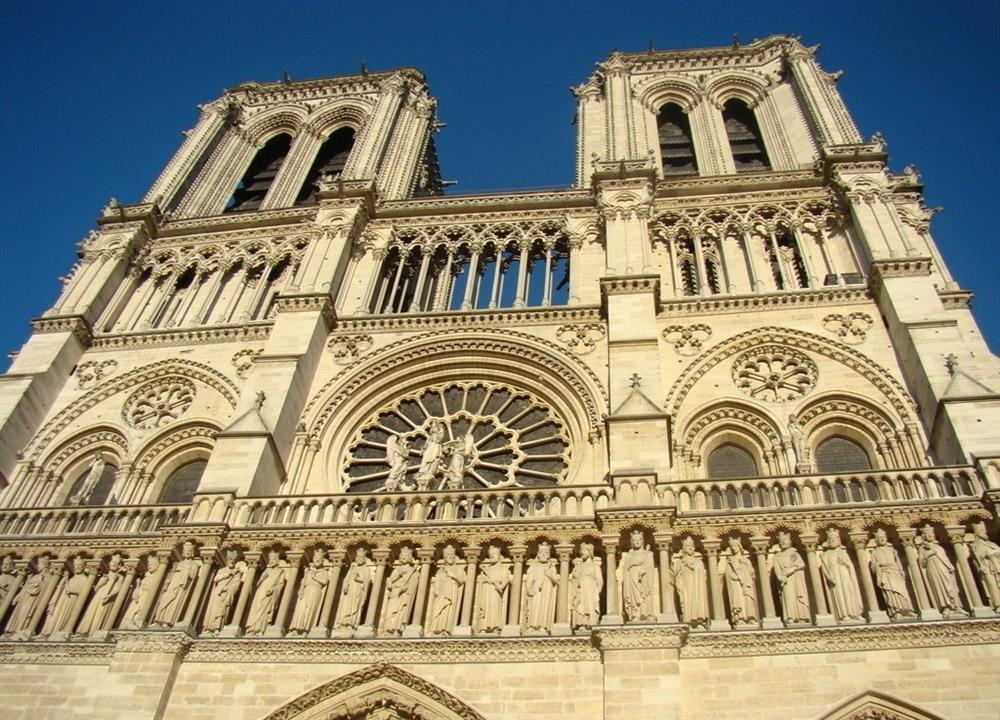Notre_Dame_de_Paris: (1, 3, 993, 713)
